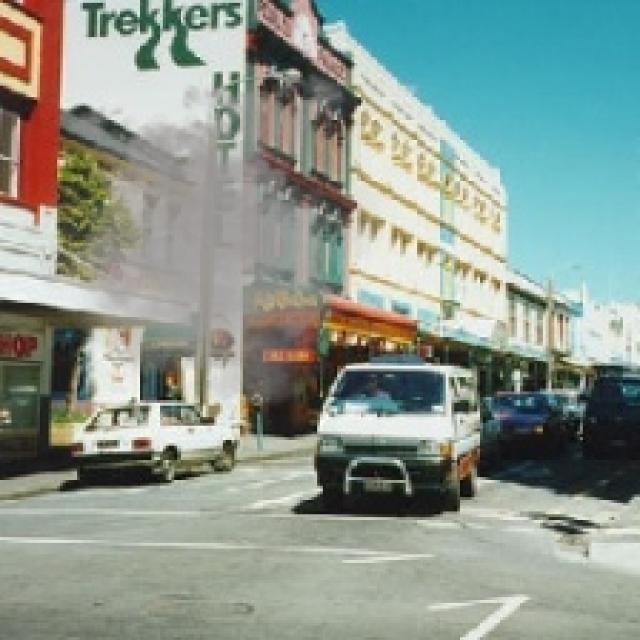smoke: (11, 63, 403, 411)
